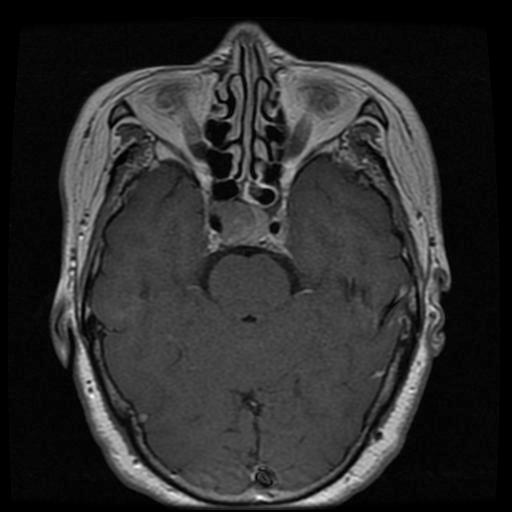Tumour-Pituitary: (200, 199, 291, 257)
